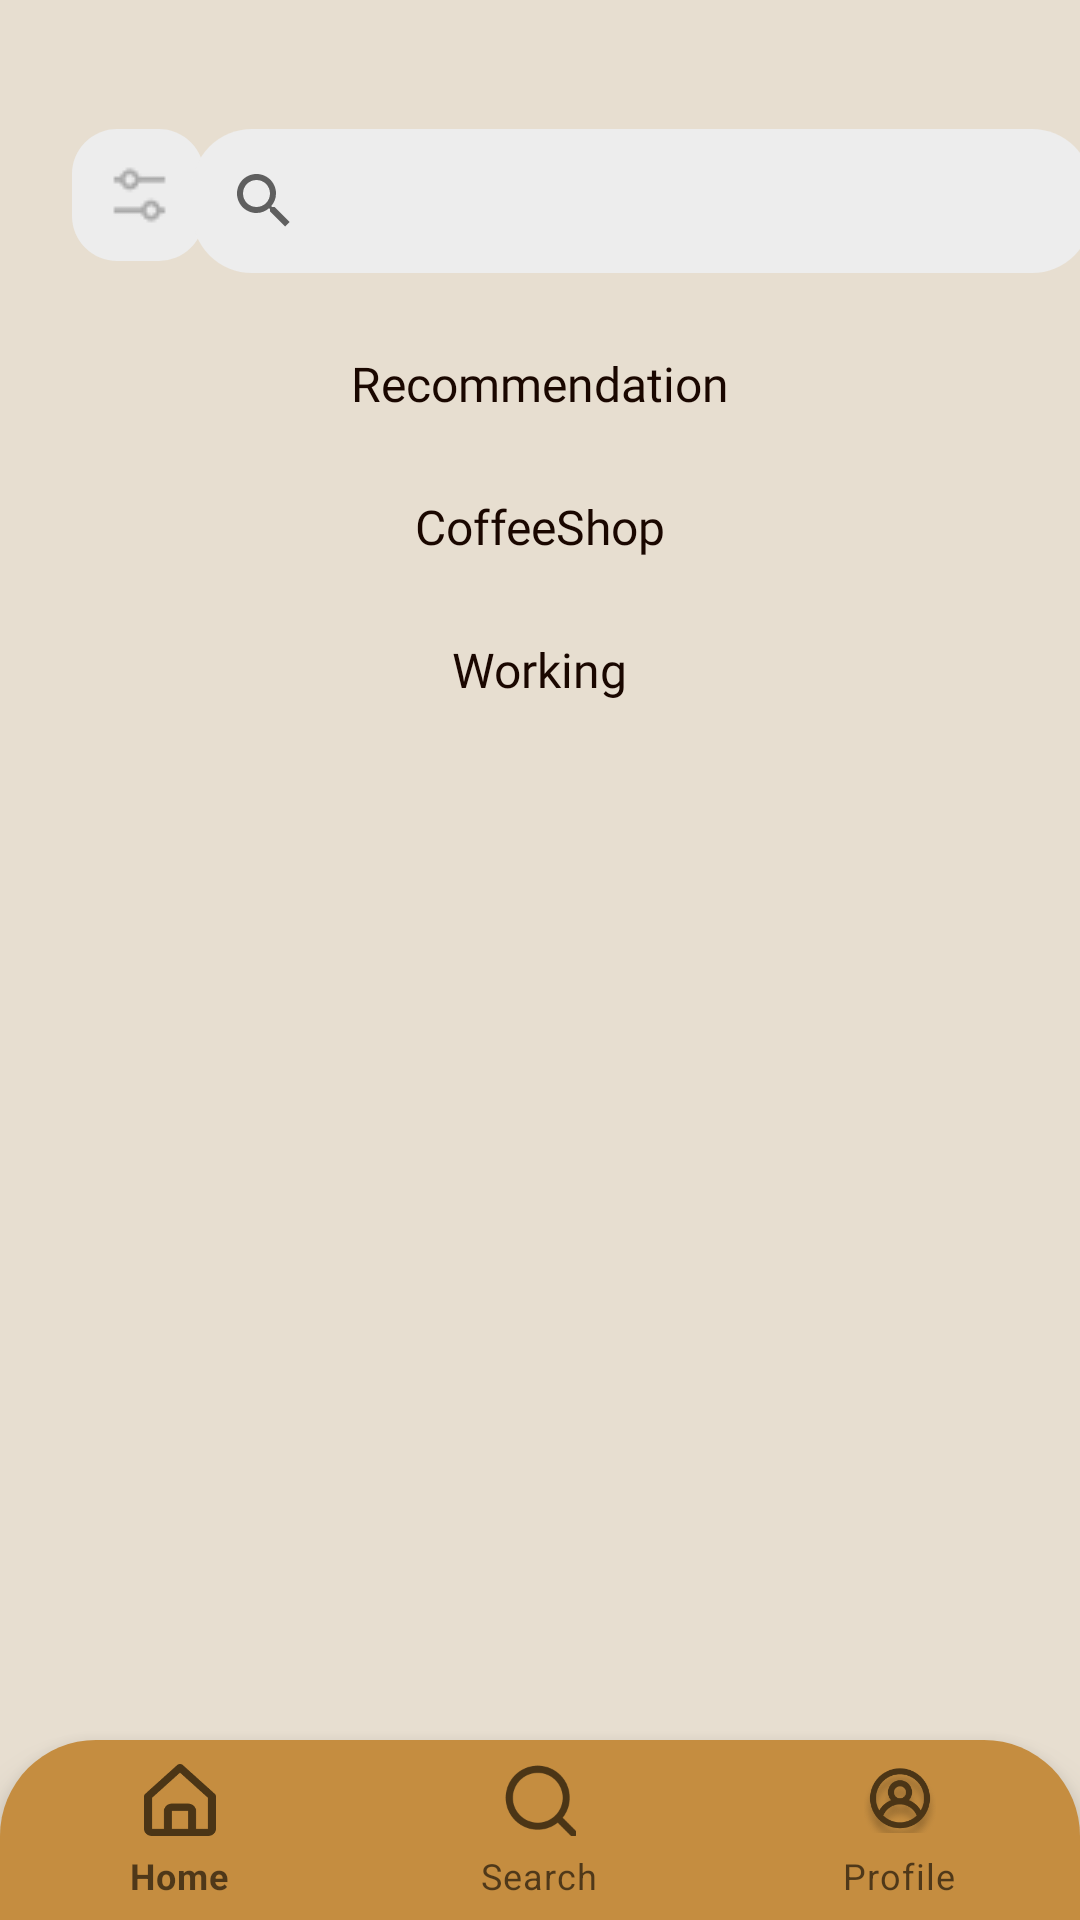

Named icons in this screenshot (1080px x 1920px) and their centers, (x,y):
option: (138,195)
